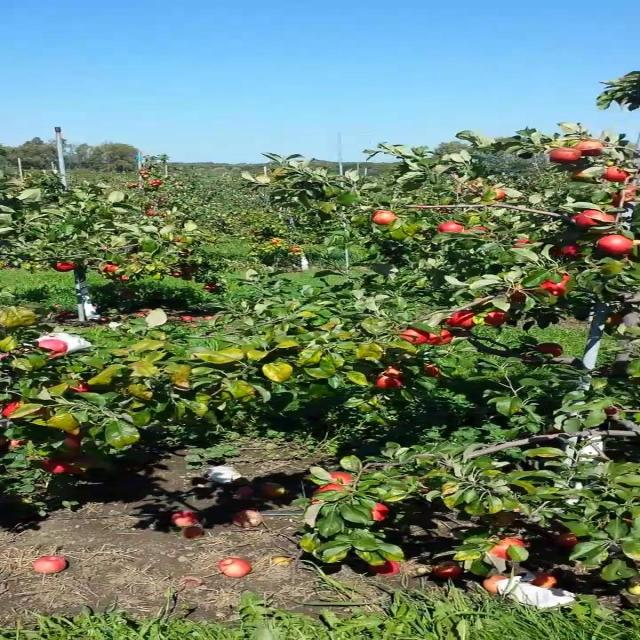apple: (39, 450, 94, 474), (570, 208, 618, 229), (486, 538, 529, 560), (595, 233, 633, 256), (538, 272, 572, 296), (33, 337, 68, 359), (573, 138, 607, 158), (545, 146, 582, 164), (608, 186, 638, 207), (431, 561, 464, 579), (366, 559, 401, 575), (444, 311, 476, 328), (398, 327, 428, 345), (600, 165, 631, 182), (505, 284, 534, 302), (449, 309, 478, 327), (425, 328, 452, 346), (616, 183, 639, 203), (481, 309, 508, 325), (370, 209, 396, 225), (374, 375, 403, 389), (370, 501, 390, 521), (63, 431, 85, 449), (436, 220, 464, 234), (534, 342, 562, 356), (556, 531, 580, 547), (327, 470, 354, 484), (554, 243, 581, 257), (477, 187, 506, 200), (316, 482, 350, 493), (2, 400, 22, 418), (567, 165, 591, 179), (64, 380, 91, 392), (381, 364, 404, 378), (420, 363, 441, 378), (20, 403, 46, 415), (464, 223, 489, 234), (485, 187, 506, 200), (604, 312, 626, 324), (511, 236, 533, 247), (602, 404, 621, 416)
